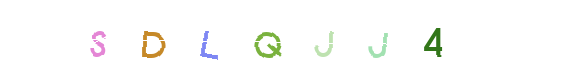4: (394, 0, 474, 80)
D: (112, 0, 192, 80)
J: (243, 0, 323, 80), (294, 0, 374, 80)
L: (166, 0, 246, 80)
Q: (243, 0, 323, 80)
S: (58, 0, 138, 80)
